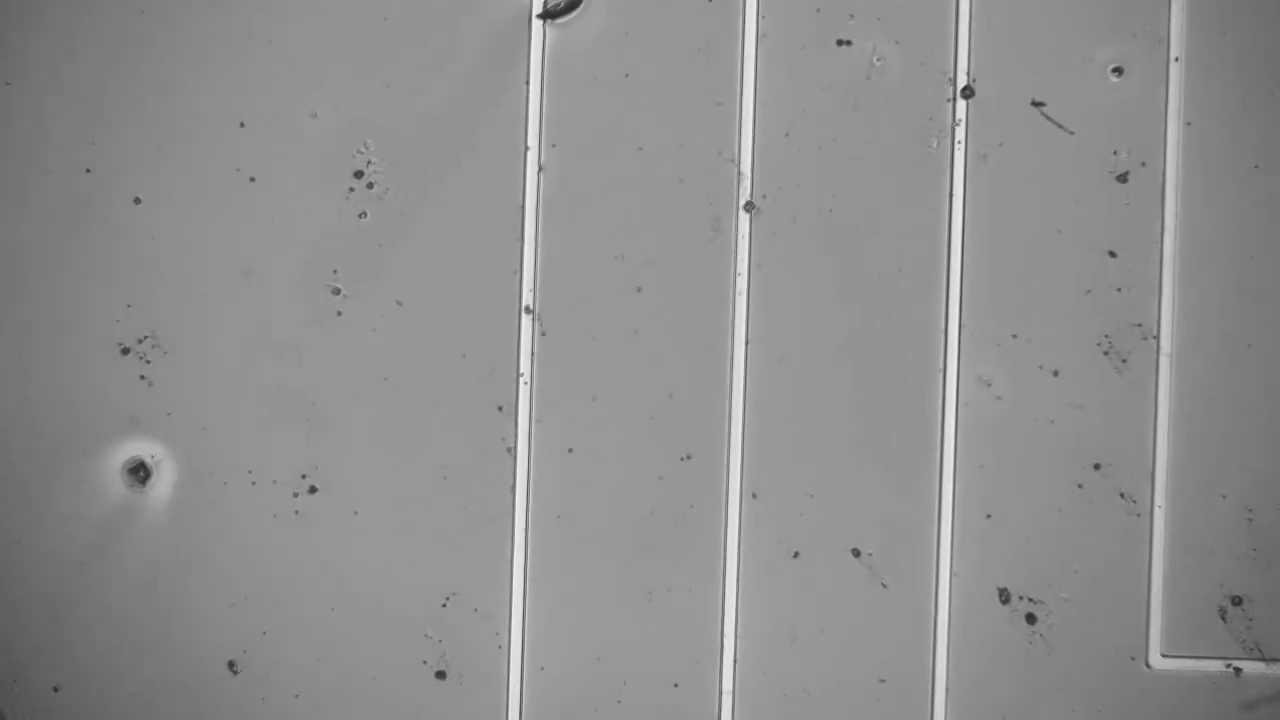stains_enbedded: (940, 75, 979, 106), (731, 190, 762, 227), (1224, 656, 1247, 685)
